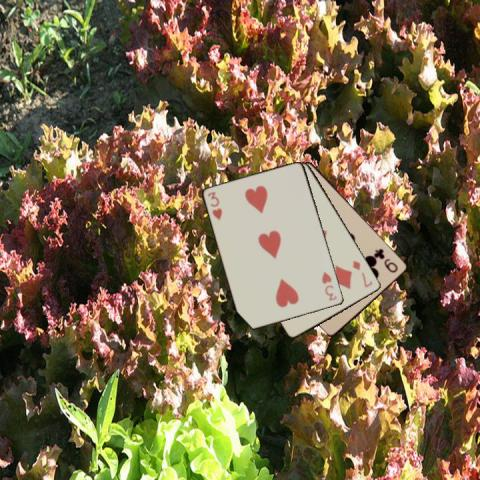3h: (319, 269, 338, 302), (205, 189, 223, 221)
7d: (350, 257, 374, 289)
9c: (372, 245, 399, 274)
